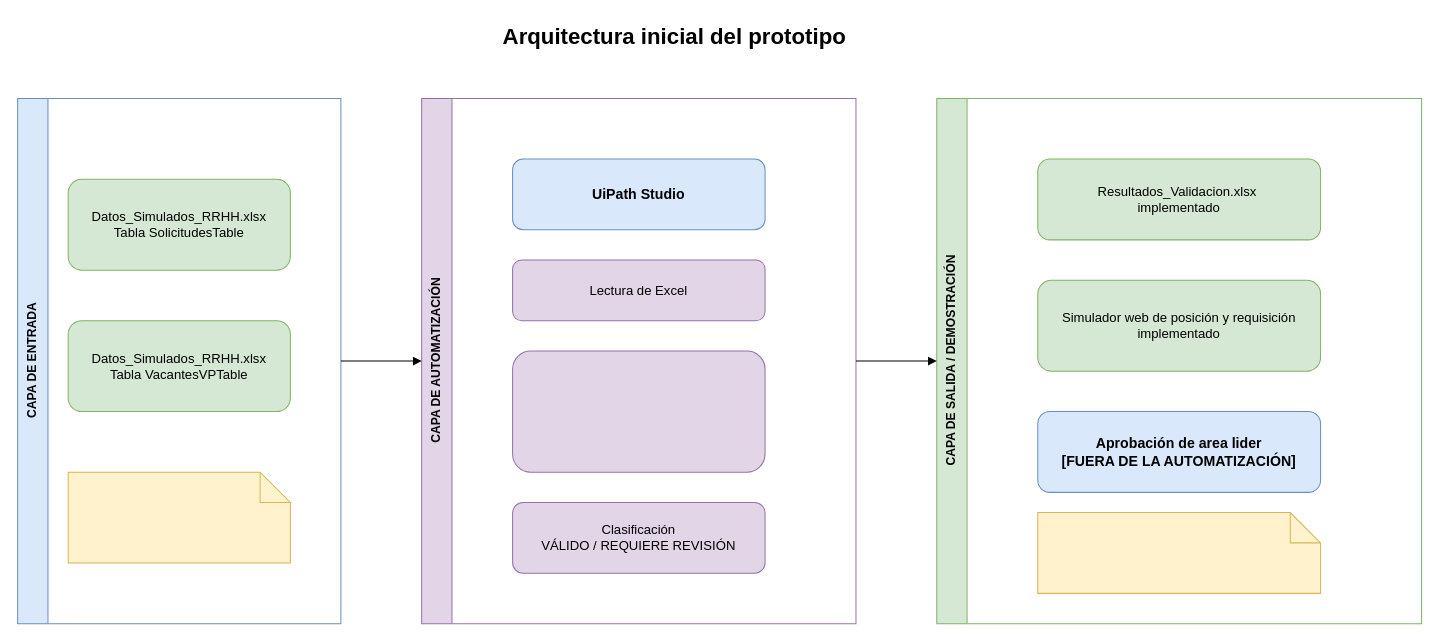
Image size: 1439x641. Some labels were removed from this diagram. The centre of each missing label's shape, as x and y in pixels:
Datos sintéticos / anonimizados Sin credenciales ni datos sensibles: [178,517]
Mapeo y validaciones • obligatorios • cruces entre fuentes • formato salarial: [638,411]
SQLite rrhh_trazabilidad.db [DISEÑADO / PENDIENTE INTEGRACIÓN]: [1179,552]
